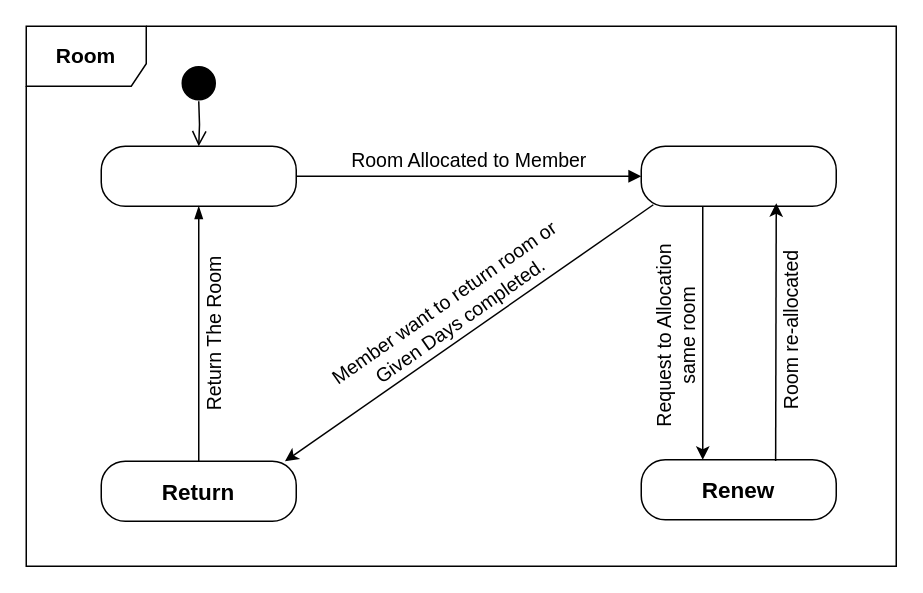
Some shapes in this 923 by 593 pixel diagram are drawn without their labels. Here are the shapes that lost their labels. From the top down, the centre of each, then its label:
At point (198, 175): "Available".
At point (738, 175): "Allocate".
